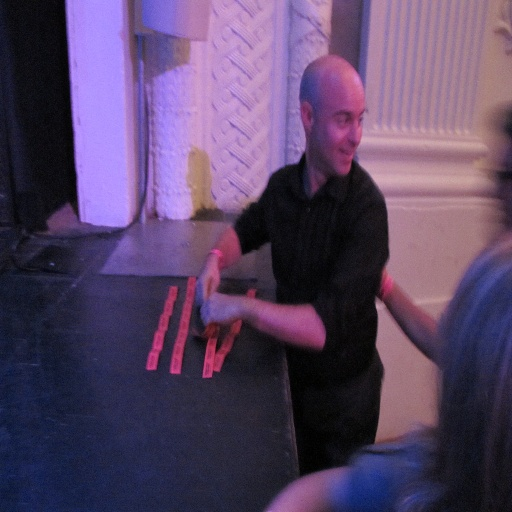hand: (195, 289, 244, 329), (194, 264, 221, 308)
